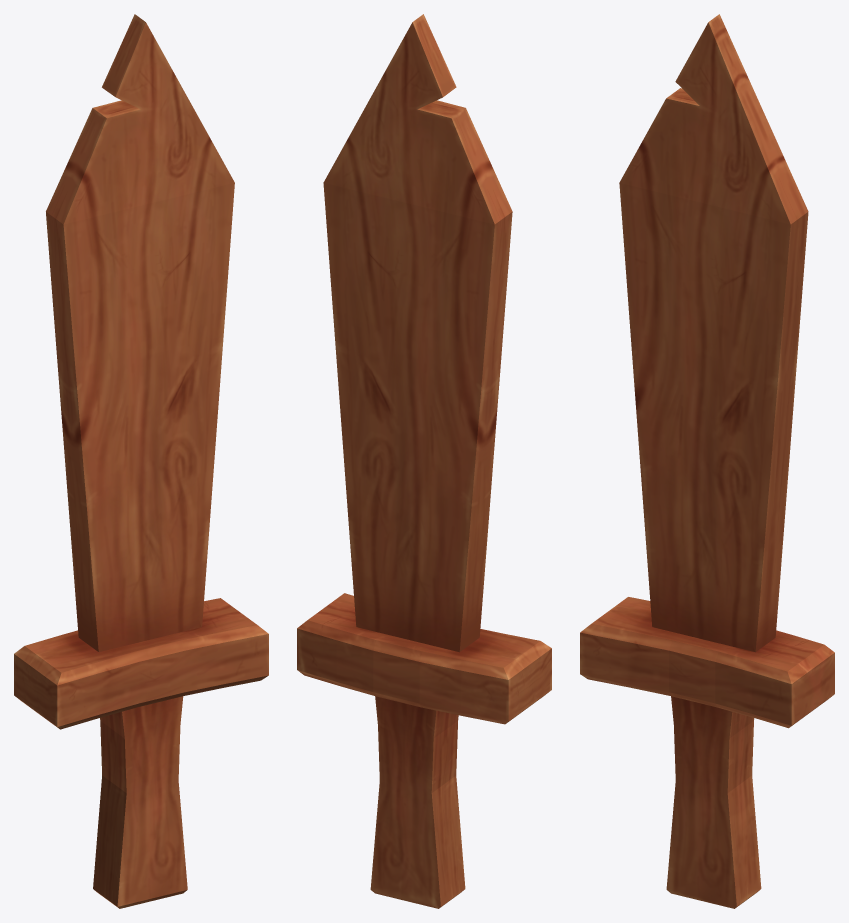
Rendered from Wooden_sword.fbx.
3 renders of one model, left to right at view 1: azimuth 30°, elevation 25°; view 2: azimuth 150°, elevation 25°; view 3: azimuth 330°, elevation 25°, orthographic.
Parts seen in each view (by area): view 1: Sword; view 2: Sword; view 3: Sword.
Part boxes in pixels (x1,y1,x2,y2): Sword: (14,14,268,908); Sword: (297,14,551,908); Sword: (580,14,834,908).
Bounding box in the file's own units: 0.354 × 1.4 × 0.1365.
